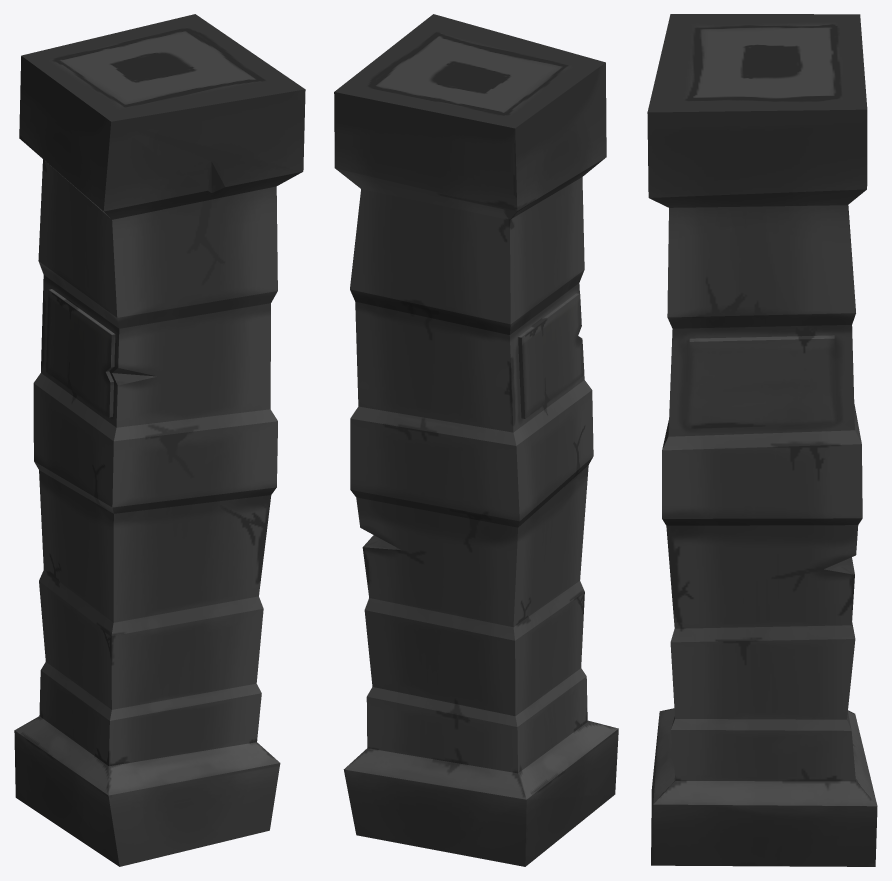
The model's file is Pillar.fbx.
3 views of the same model, side by side, from view 1: azimuth 30°, elevation 25°; view 2: azimuth 150°, elevation 25°; view 3: azimuth 270°, elevation 25° (orthographic). The views are drawn at different scales.
Visible parts, largest first — view 1: Pillar; view 2: Pillar; view 3: Pillar.
Boxes of the visible parts, x1,y1,x2,y2 form: Pillar: [14, 14, 305, 866]; Pillar: [334, 14, 618, 866]; Pillar: [647, 14, 877, 866].
Bounding box in the file's own units: 1.43 × 5.25 × 1.41.
